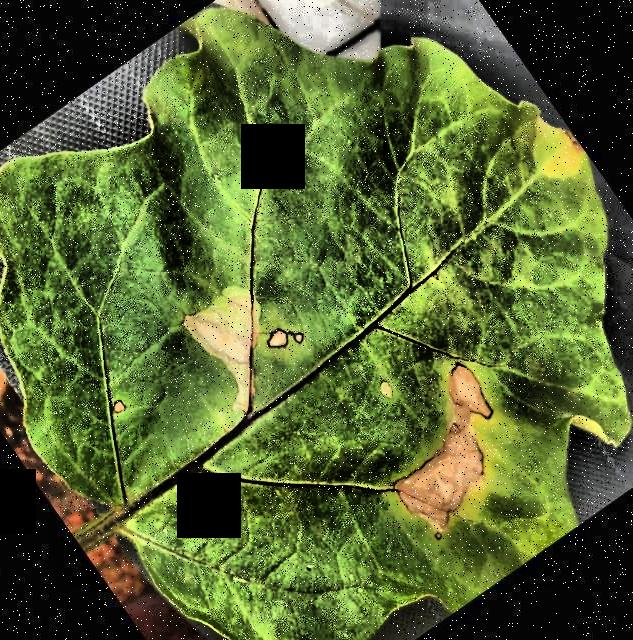Critical Stress: (0, 0, 633, 640)
